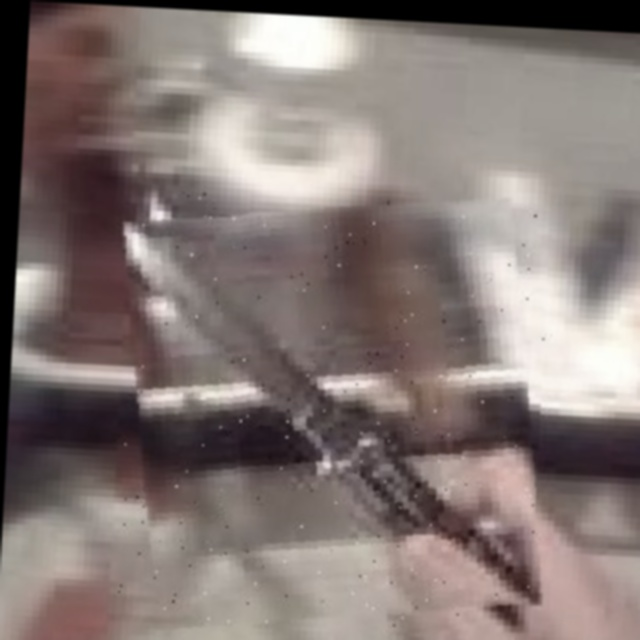Sharp-Object: (115, 188, 551, 639)
